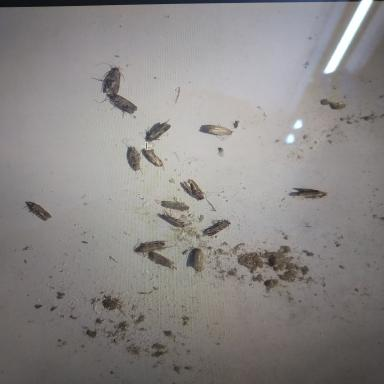pbw: (90, 58, 127, 102), (108, 138, 148, 176), (94, 92, 140, 119), (132, 118, 174, 144), (130, 142, 166, 172), (197, 215, 233, 241), (128, 238, 178, 256), (174, 178, 212, 201), (154, 207, 189, 230), (157, 195, 192, 218), (144, 250, 180, 272), (20, 200, 54, 223), (197, 122, 236, 142), (185, 245, 210, 274), (289, 186, 330, 202), (228, 118, 242, 130), (214, 146, 226, 158)
